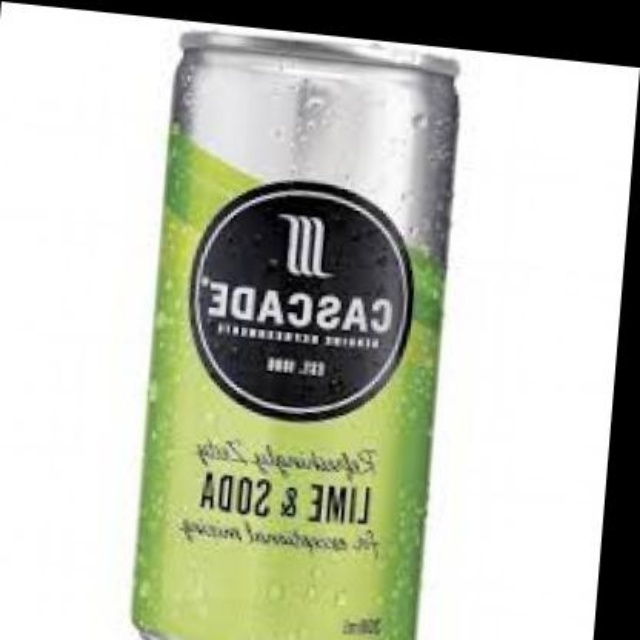trash: (134, 34, 455, 638)
